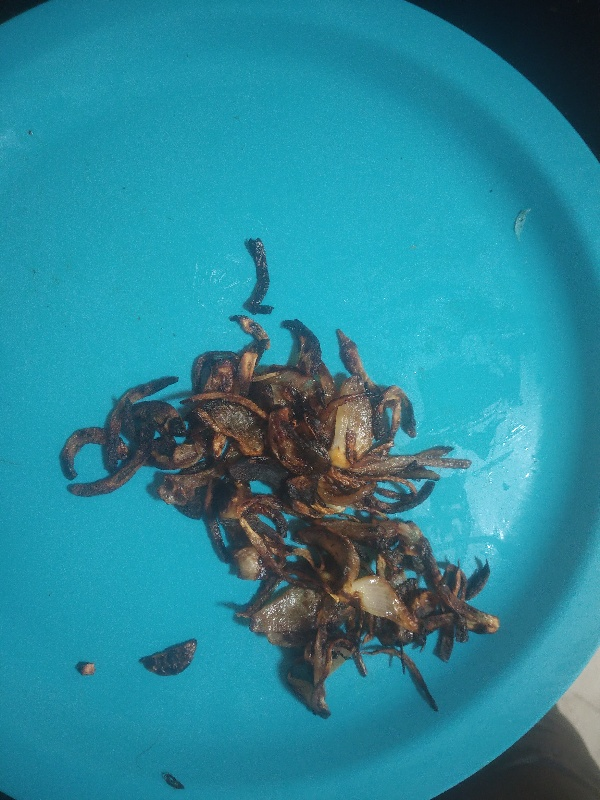onion_burnt: (87, 255, 514, 724)
